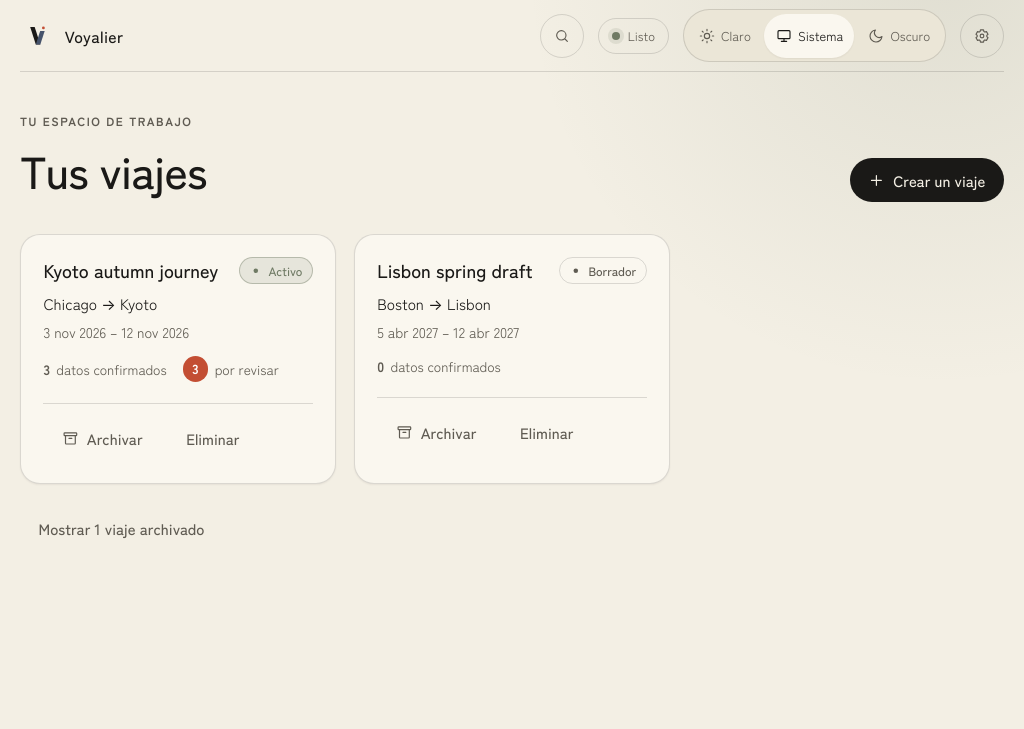
Test: Today panel › labels same-title evidence and plans independently in es
Click the button with aria-label "Abrir Kyoto autumn journey" at (131, 270), box [43,257,218,283]
(page scrolled)
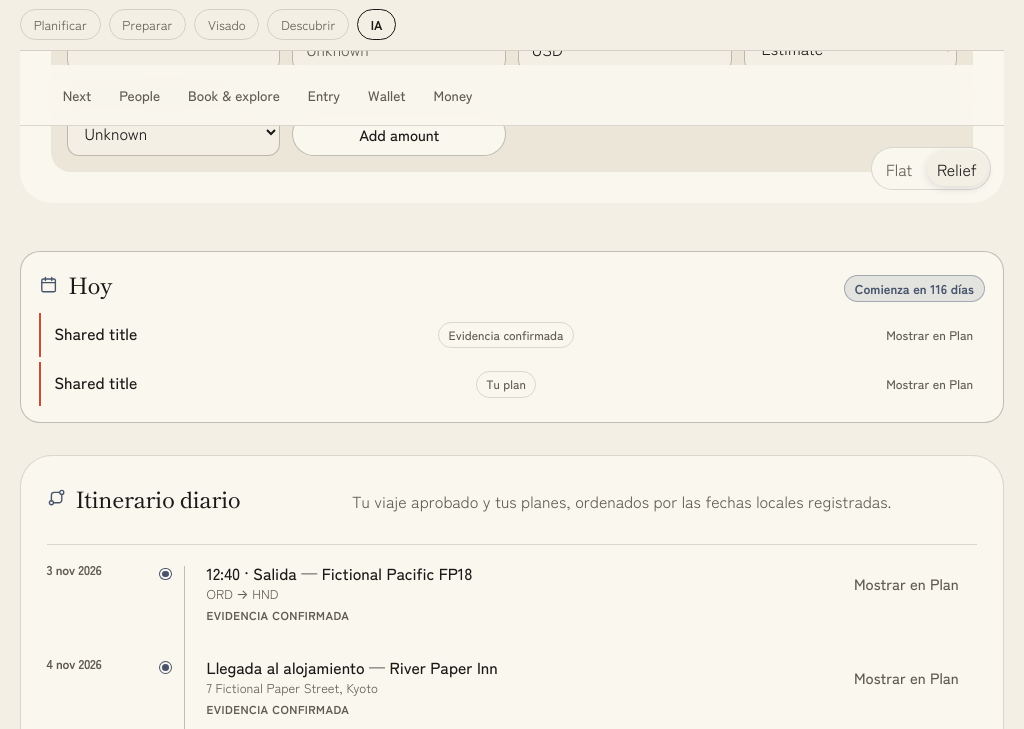
Check: the 1st text "Evidencia confirmada" is shown, box [438,322,574,348]
Check: the text "Tu plan" is shown, box [476,371,536,398]
Check: the text "Shared title" is shown 2 times, box [54,321,137,345]; [54,370,137,394]
